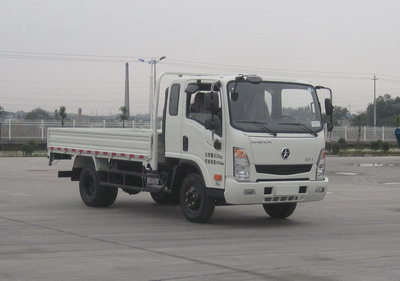smalltruck: (39, 60, 354, 225)
